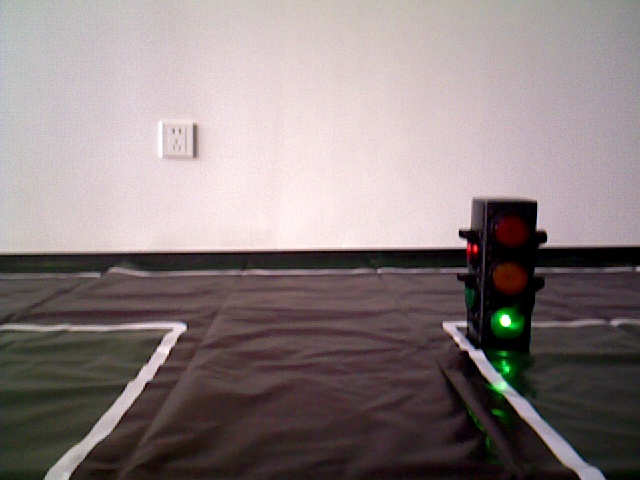green: (472, 198, 537, 344)
